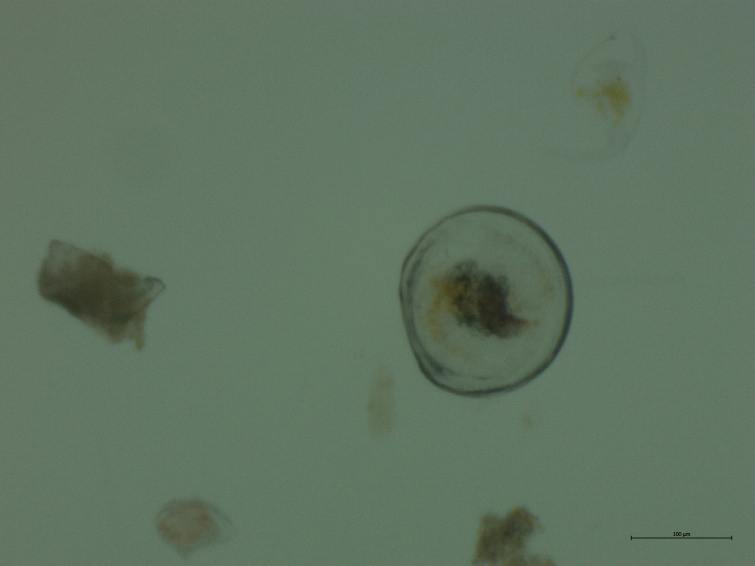oyster: (394, 198, 584, 410)
